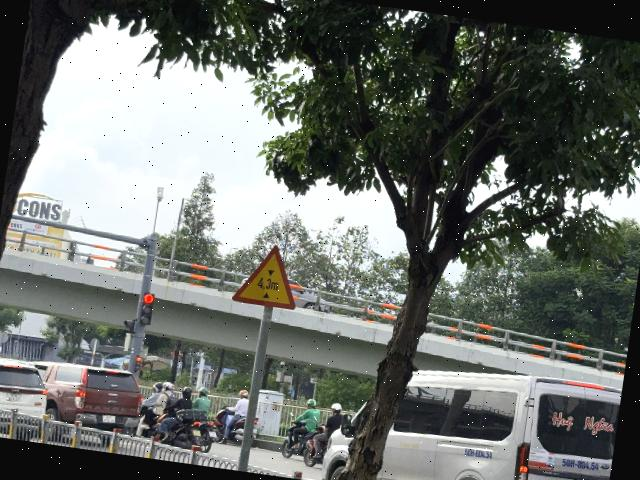chieu-cao-tinh-khong-thuc-te: (232, 241, 304, 310)
